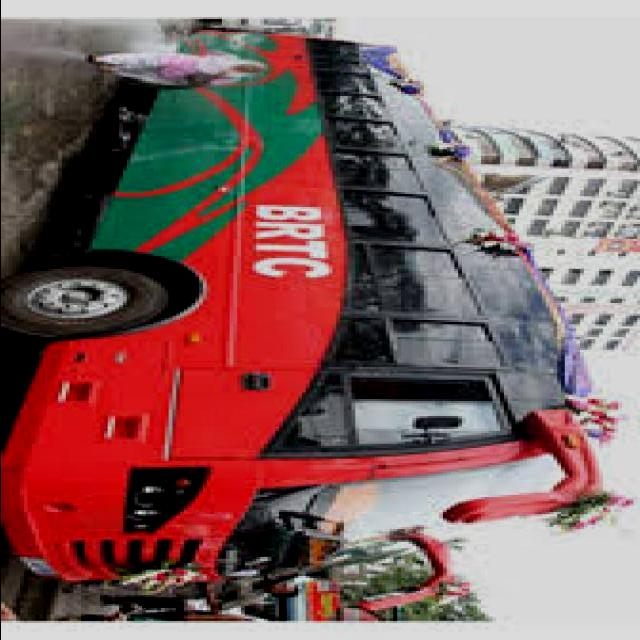bus: (5, 32, 611, 611)
